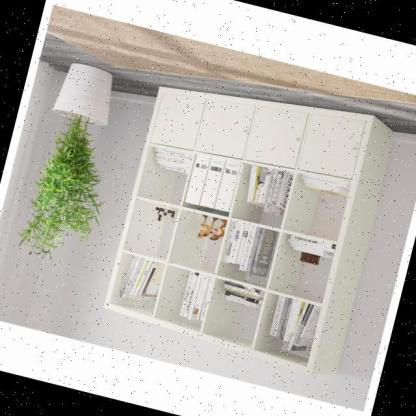Shelf: (92, 56, 408, 384)
